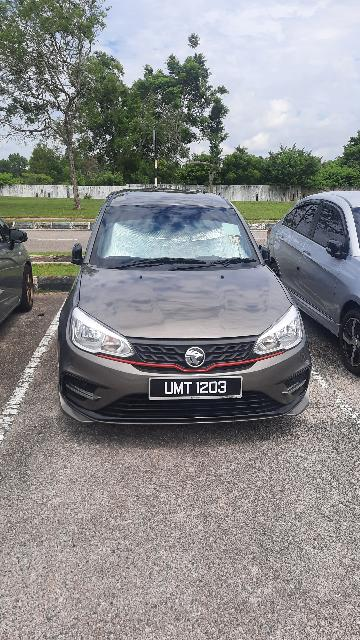License_Plate: (148, 375, 249, 403)
car: (48, 182, 318, 438)
